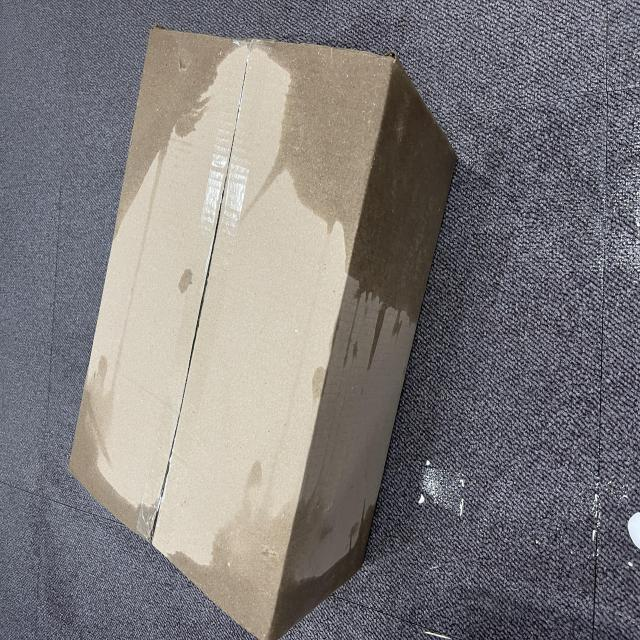wet: (242, 351, 446, 608), (7, 240, 111, 495), (298, 156, 458, 316), (90, 97, 209, 203)
